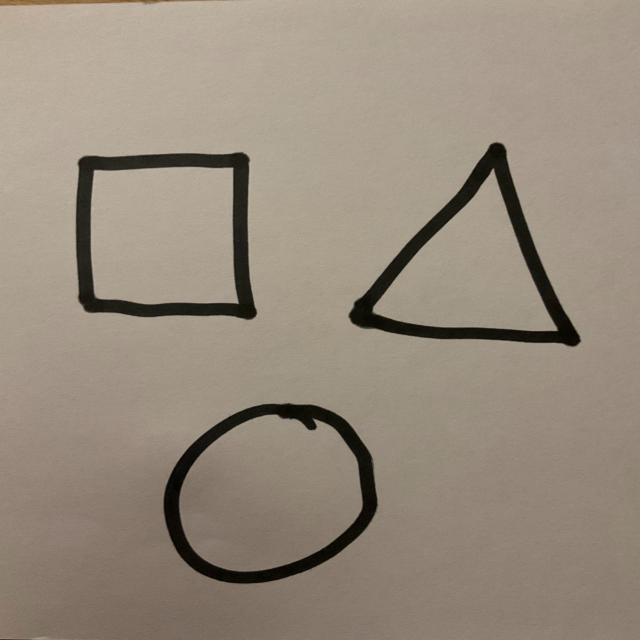Dreieck: (348, 143, 581, 349)
Kreis: (161, 403, 380, 587)
Quadrat: (73, 152, 257, 321)
